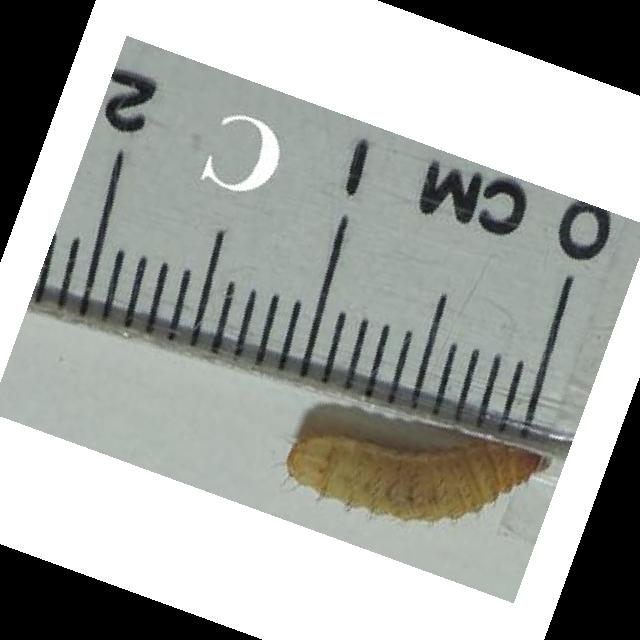Maggot: (287, 426, 544, 524)
